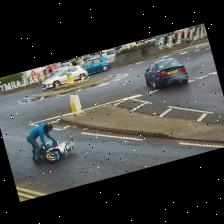person: (26, 123, 56, 163)
